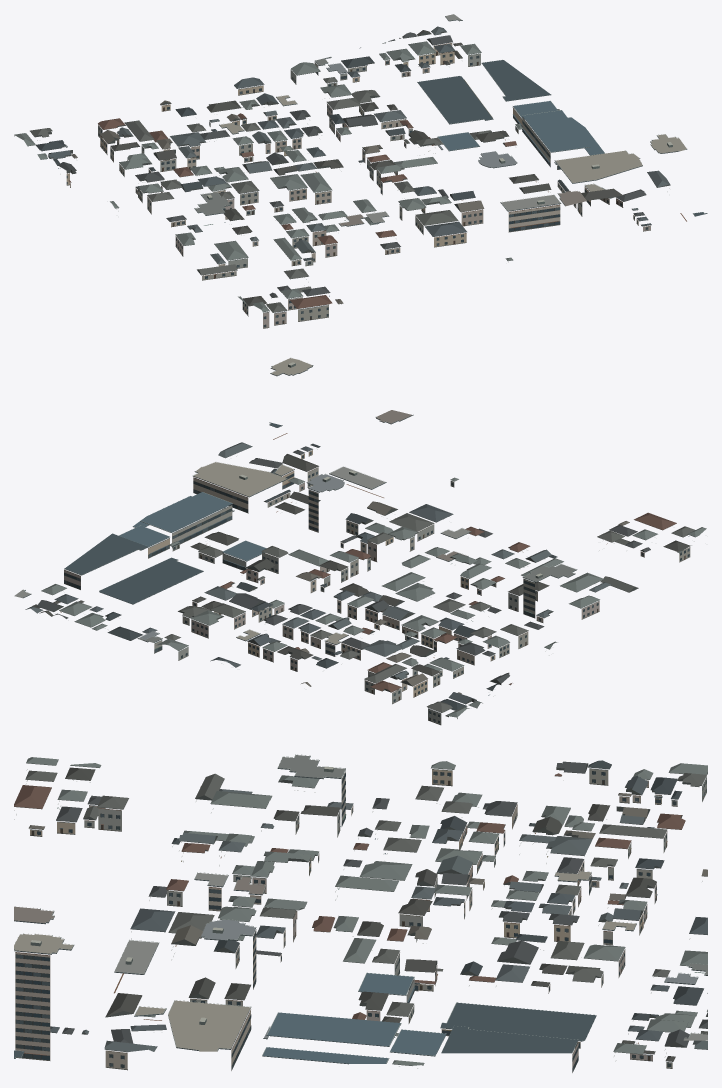
3 renders of one model, top to bottom at view 1: azimuth 30°, elevation 25°; view 2: azimuth 150°, elevation 25°; view 3: azimuth 270°, elevation 25°, orthographic. The views are drawn at different scales.
Parts seen in each view (by area): view 1: r0-c4; view 2: r0-c4; view 3: r0-c4.
Boxes of the visible parts, bbox=[...] form: r0-c4: bbox=[14, 14, 707, 328]; r0-c4: bbox=[14, 357, 706, 725]; r0-c4: bbox=[14, 754, 707, 1072].
Bounding box in the file's own units: 250 × 45.48 × 250.
